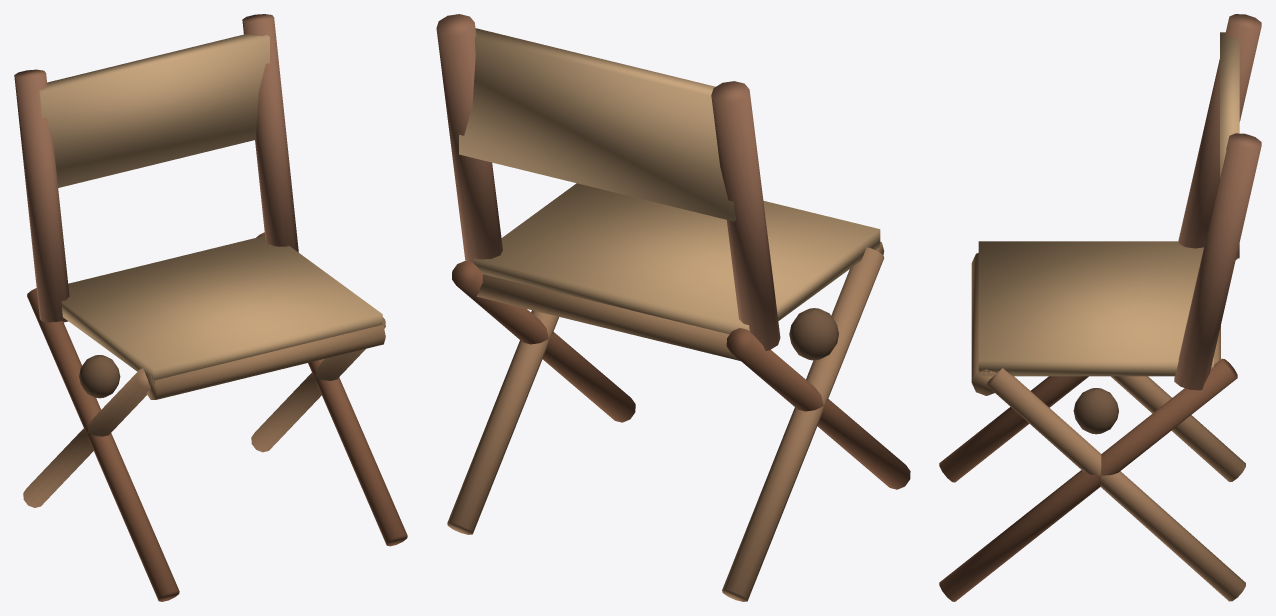
The model's file is Chair.glb.
The picture shows the model from 3 angles, left to right: view 1: azimuth 30°, elevation 25°; view 2: azimuth 150°, elevation 25°; view 3: azimuth 270°, elevation 25°; orthographic projection. The views are drawn at different scales.
Parts seen in each view (by area): view 1: b612__Chair__frame; view 2: b612__Chair__frame; view 3: b612__Chair__frame.
Boxes of the visible parts, left/top/right/bottom form: b612__Chair__frame: left=14, top=14, right=407, bottom=601; b612__Chair__frame: left=436, top=14, right=910, bottom=601; b612__Chair__frame: left=939, top=14, right=1261, bottom=601.
Bounding box in the file's own units: 0.416 × 0.65 × 0.4105.
